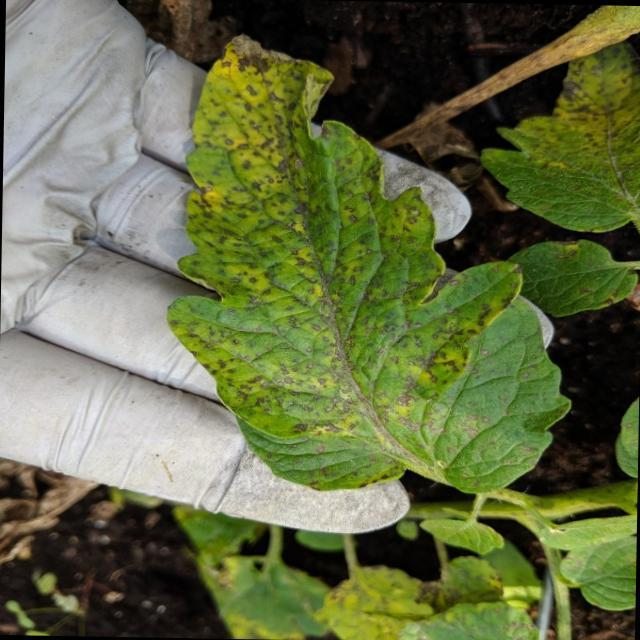Septoria: (187, 66, 483, 440)
